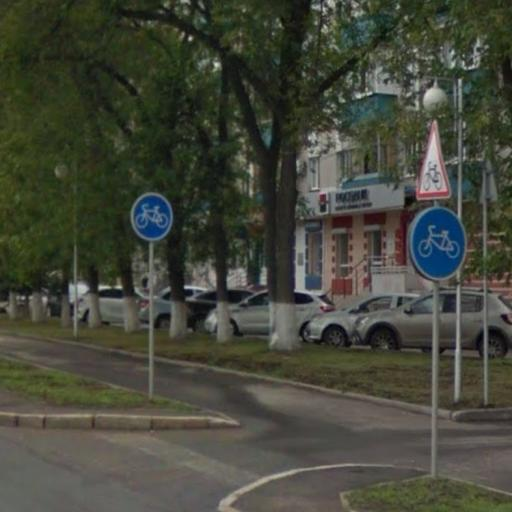traffic_sign: (409, 207, 472, 282), (414, 119, 456, 203), (130, 192, 176, 244)
